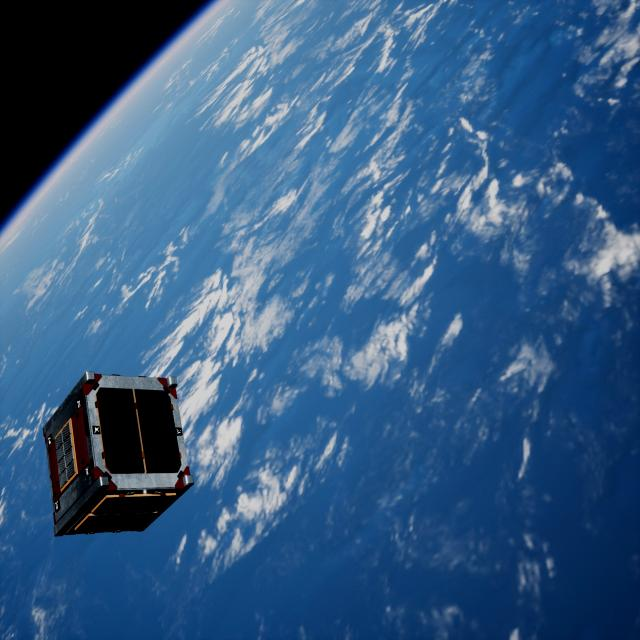satellite: (39, 366, 190, 539)
